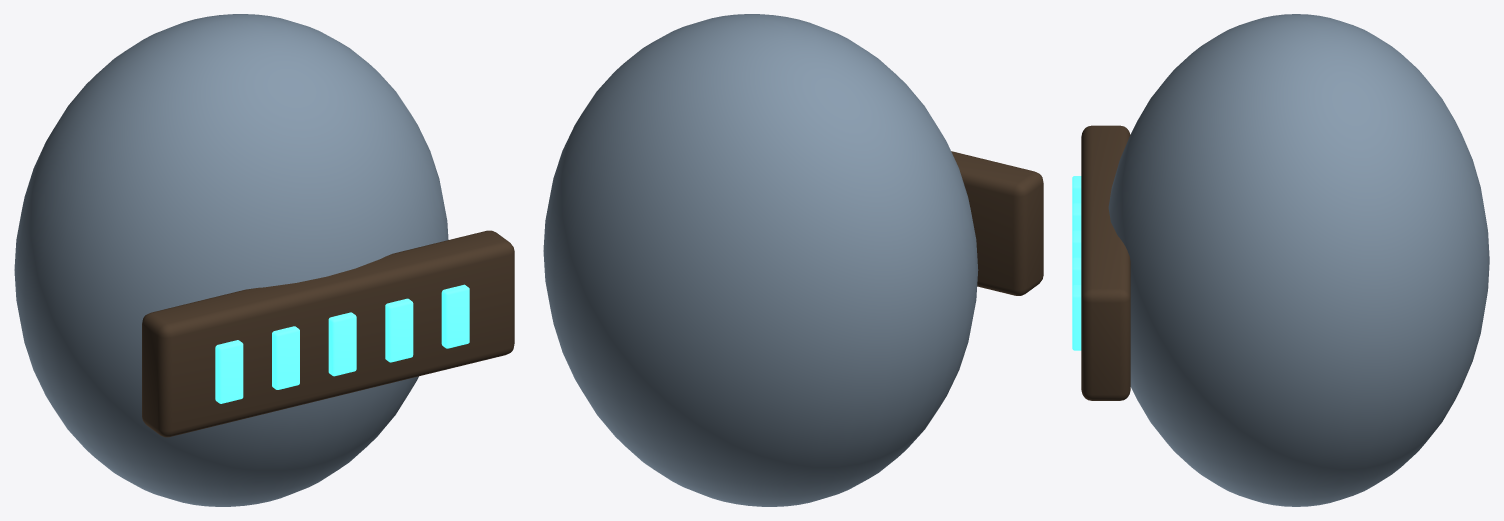
The model's file is helm_v4.glb.
The picture shows the model from 3 angles, left to right: view 1: azimuth 30°, elevation 25°; view 2: azimuth 150°, elevation 25°; view 3: azimuth 270°, elevation 25°; orthographic projection.
Parts seen in each view (by area): view 1: GREAT_HELM_PRIMARY, FLAT_VISOR_SECONDARY, BREATHING_SLIT_EMISSIVE, BREATHING_SLIT_EMISSIVE.002, BREATHING_SLIT_EMISSIVE.003, BREATHING_SLIT_EMISSIVE.004, BREATHING_SLIT_EMISSIVE.001; view 2: GREAT_HELM_PRIMARY, FLAT_VISOR_SECONDARY; view 3: GREAT_HELM_PRIMARY, FLAT_VISOR_SECONDARY, BREATHING_SLIT_EMISSIVE.004.
Boxes of the visible parts, box(x1,y1,x2,y2) form: GREAT_HELM_PRIMARY: box(14, 14, 448, 506); FLAT_VISOR_SECONDARY: box(142, 230, 514, 437); BREATHING_SLIT_EMISSIVE: box(215, 340, 243, 403); BREATHING_SLIT_EMISSIVE.002: box(328, 312, 356, 376); BREATHING_SLIT_EMISSIVE.003: box(385, 298, 413, 362); BREATHING_SLIT_EMISSIVE.004: box(441, 284, 469, 348); BREATHING_SLIT_EMISSIVE.001: box(272, 326, 299, 389); GREAT_HELM_PRIMARY: box(543, 14, 978, 506); FLAT_VISOR_SECONDARY: box(951, 151, 1043, 295); GREAT_HELM_PRIMARY: box(1108, 14, 1489, 506); FLAT_VISOR_SECONDARY: box(1081, 125, 1130, 400); BREATHING_SLIT_EMISSIVE.004: box(1072, 285, 1081, 350).
Size of the model in its own units: 1.44 by 1.64 by 1.36.
